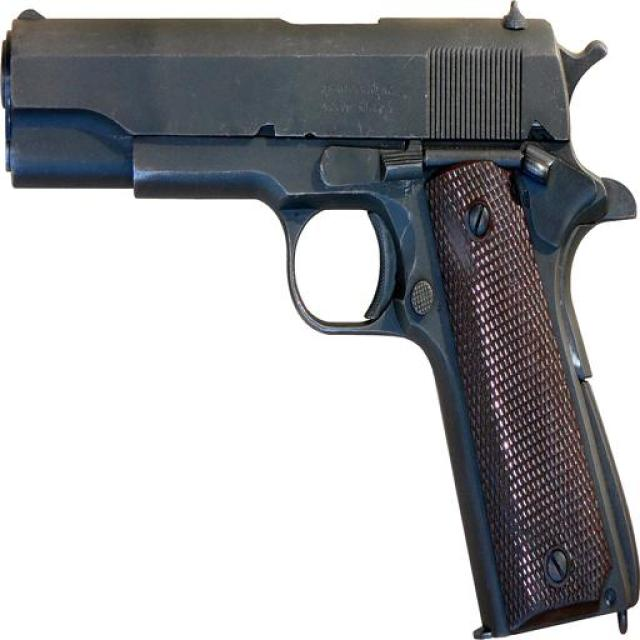pistol: (10, 6, 625, 631)
